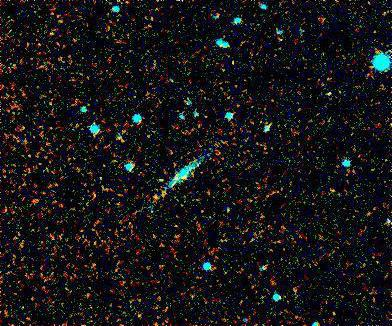star: (140, 184, 170, 214)
